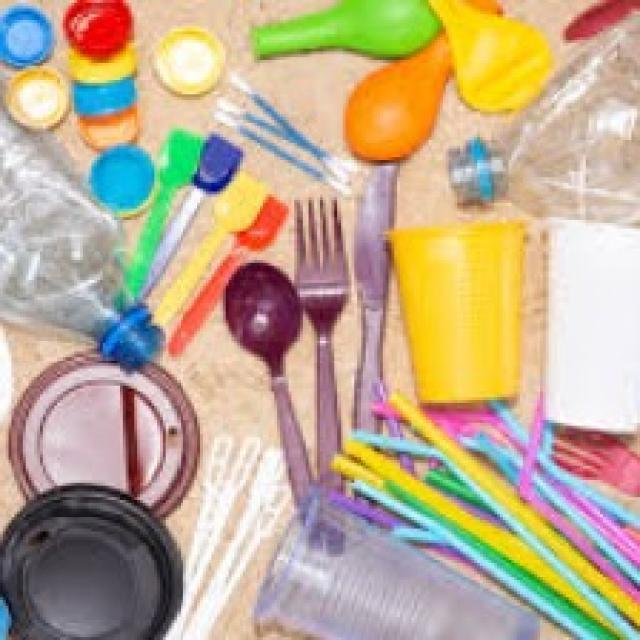plastic: (382, 194, 536, 423)
plastic_bottle: (1, 103, 175, 375)
